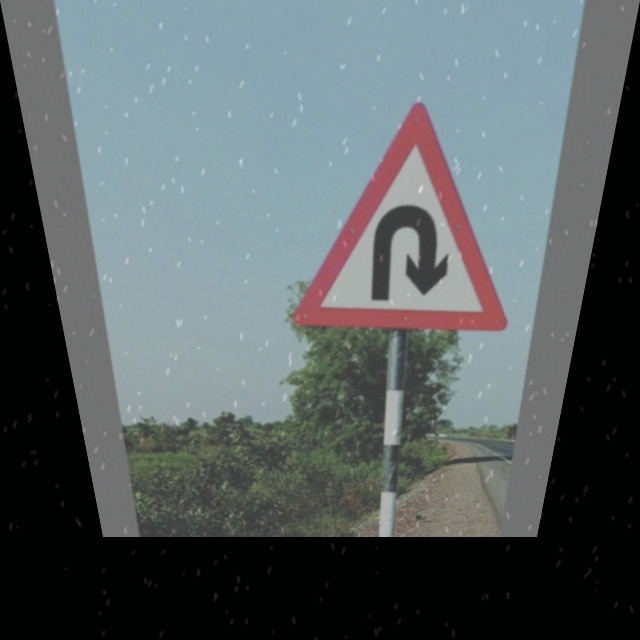Right_Hair_Pin_Bend: (290, 104, 539, 331)
